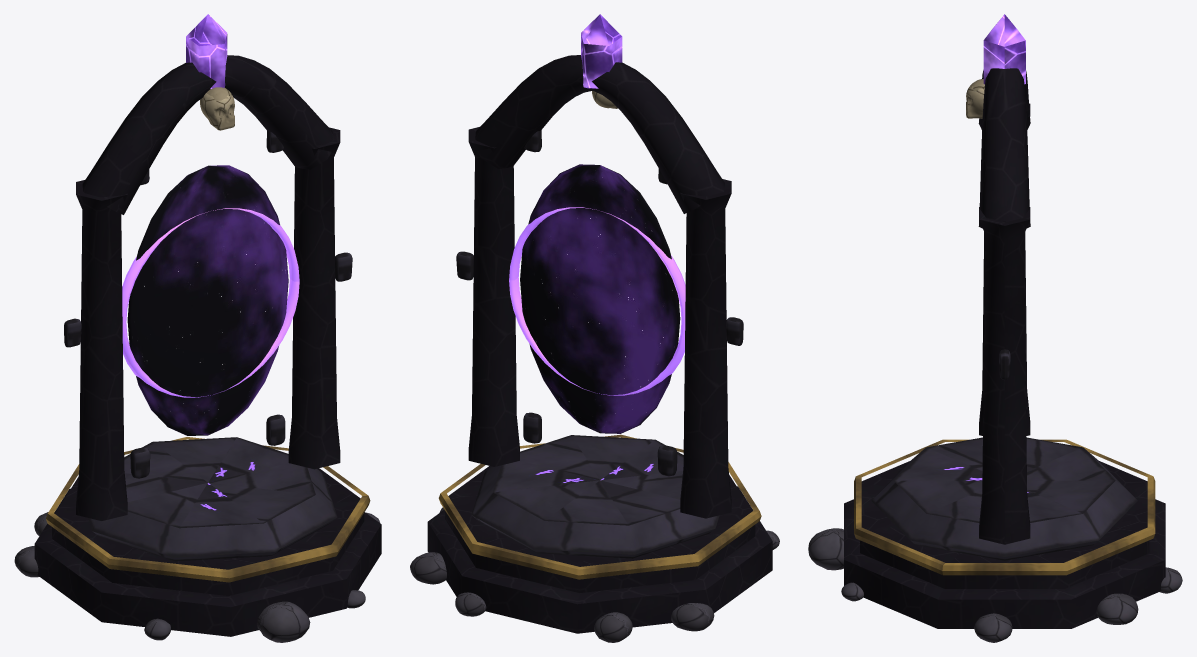
The model's file is riftgate.glb.
The picture shows the model from 3 angles, left to right: view 1: azimuth 30°, elevation 25°; view 2: azimuth 150°, elevation 25°; view 3: azimuth 270°, elevation 25°; orthographic projection.
Visible parts, largest first — view 1: Base, Turret; view 2: Base, Turret; view 3: Base.
Part boxes in pixels (x1,y1,x2,y2): Base: (14,14,381,642); Turret: (64,131,352,478); Base: (410,14,779,642); Turret: (456,130,743,476); Base: (808,14,1182,642).
Size of the model in its own units: 0.9768 by 1.66 by 1.01.
8 materials, 8 textured.
